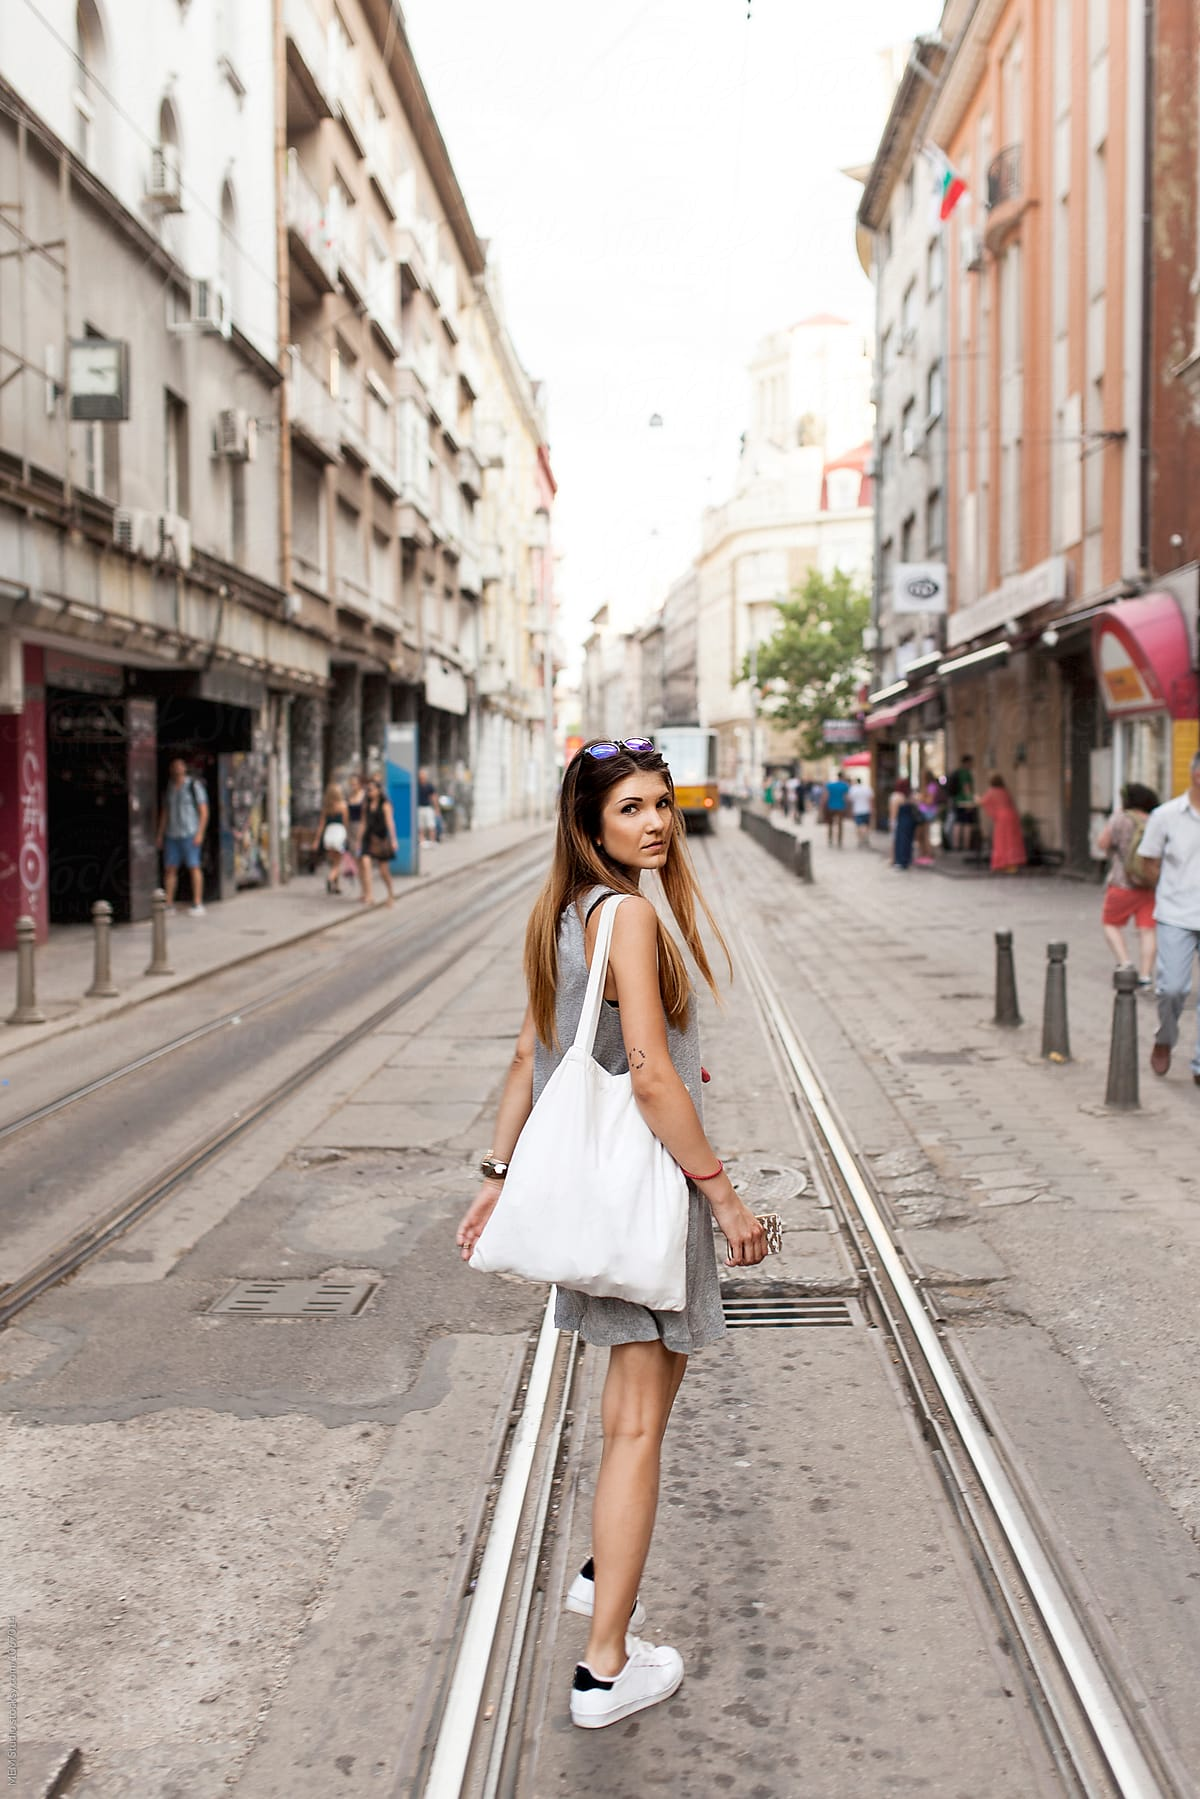person: (460, 723, 777, 1738), (1082, 767, 1165, 994), (1146, 742, 1200, 1094), (143, 755, 216, 913), (970, 774, 1036, 881), (358, 764, 407, 908), (314, 769, 360, 908), (887, 784, 941, 872), (814, 762, 853, 852)
